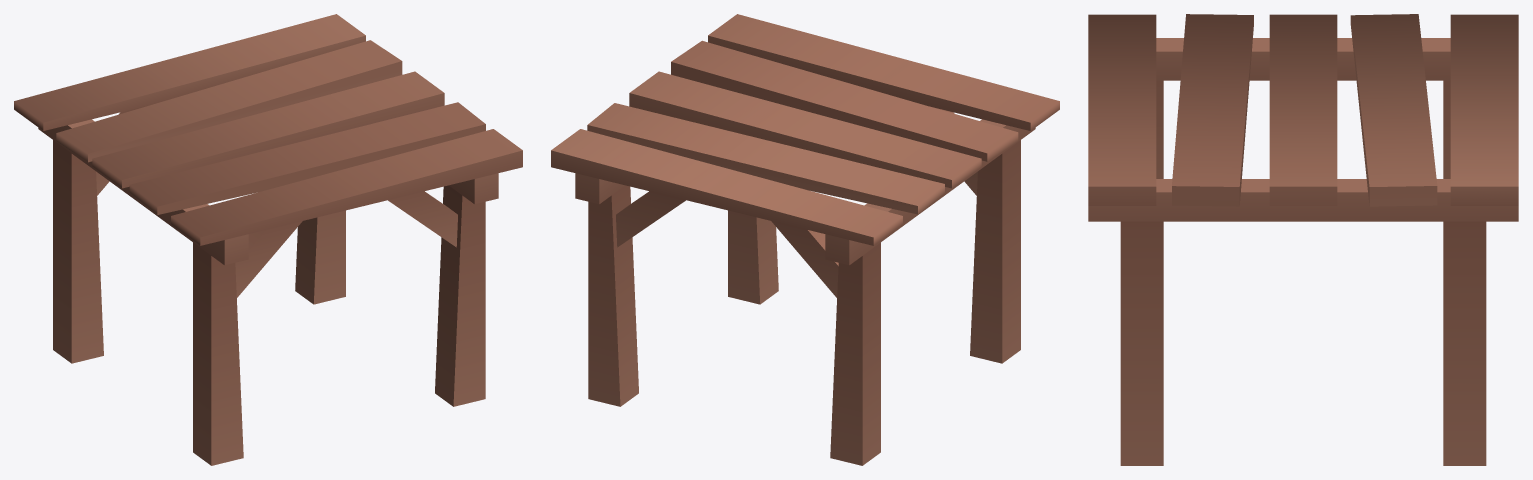
Rendered from template_floor_layer_raised.glb.
3 renders of one model, left to right at view 1: azimuth 30°, elevation 25°; view 2: azimuth 150°, elevation 25°; view 3: azimuth 270°, elevation 25°, orthographic. The views are drawn at different scales.
Parts seen in each view (by area): view 1: template-floor-layer-raised; view 2: template-floor-layer-raised; view 3: template-floor-layer-raised.
Boxes of the visible parts, <box> form: template-floor-layer-raised: <box>14,14,522,465</box>; template-floor-layer-raised: <box>551,14,1059,465</box>; template-floor-layer-raised: <box>1088,14,1518,465</box>.
Bounding box in the file's own units: 4.02 × 3 × 4.
Materials: 1 (1 with a texture image).
